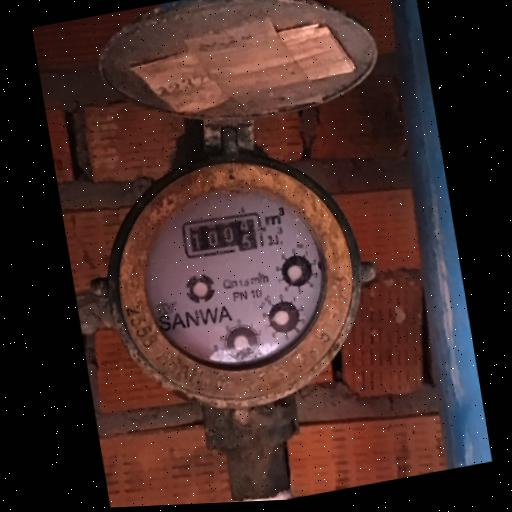0: (203, 222, 222, 250), (219, 221, 238, 248)
1: (188, 224, 205, 253)
4: (235, 218, 255, 252)
border_water_meter_number: (178, 207, 269, 263)
